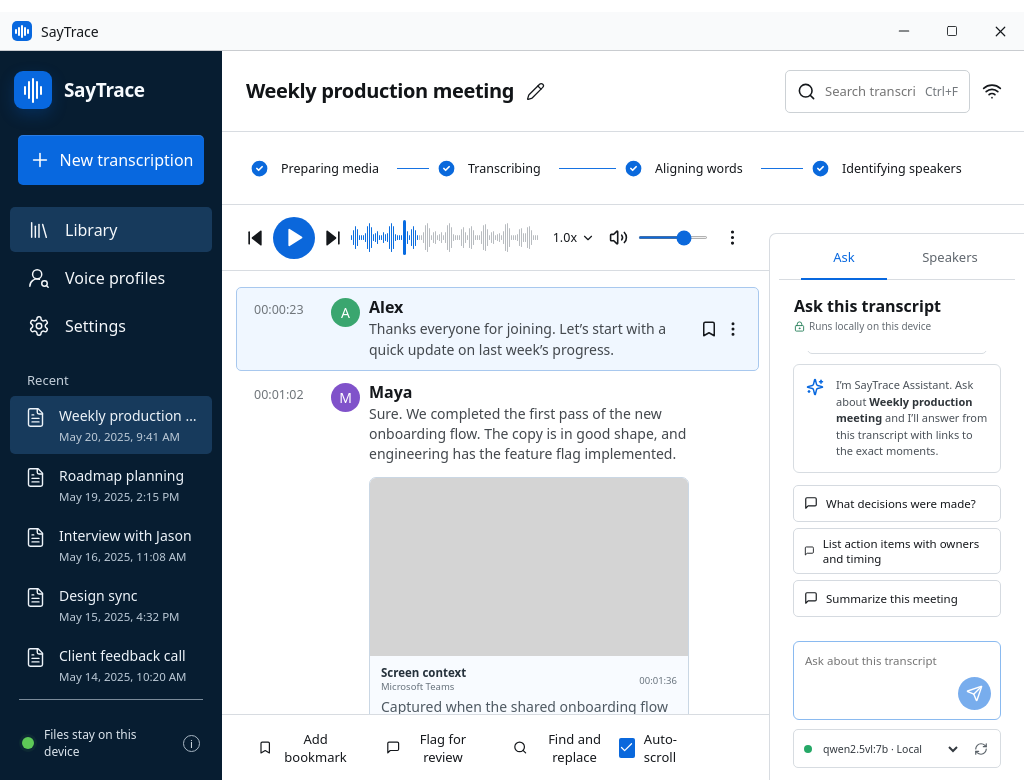
Scenario: SayTrace workspace › commits an inline speaker rename when focus leaves the field
The width and height of the screenshot is (1036, 780).
(page scrolled)
Click the tab "Speakers" at point(950, 256), box [897,234,1003,279]
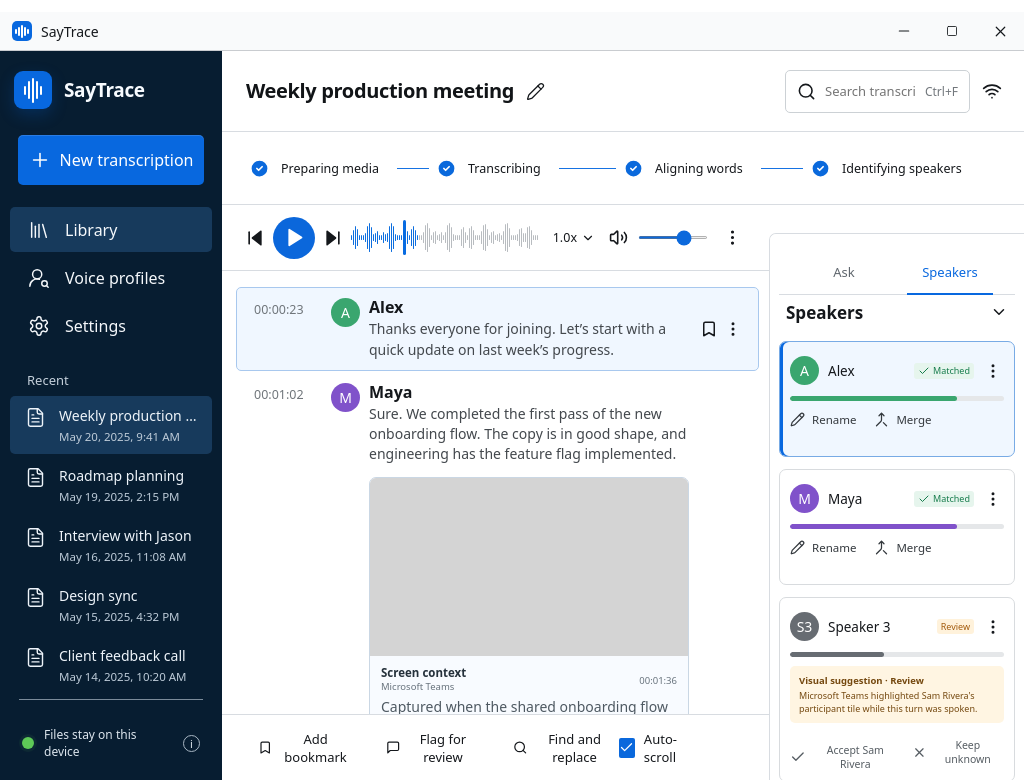
Click the 1st button "Rename" at point(823, 420), box [790,412,856,427]
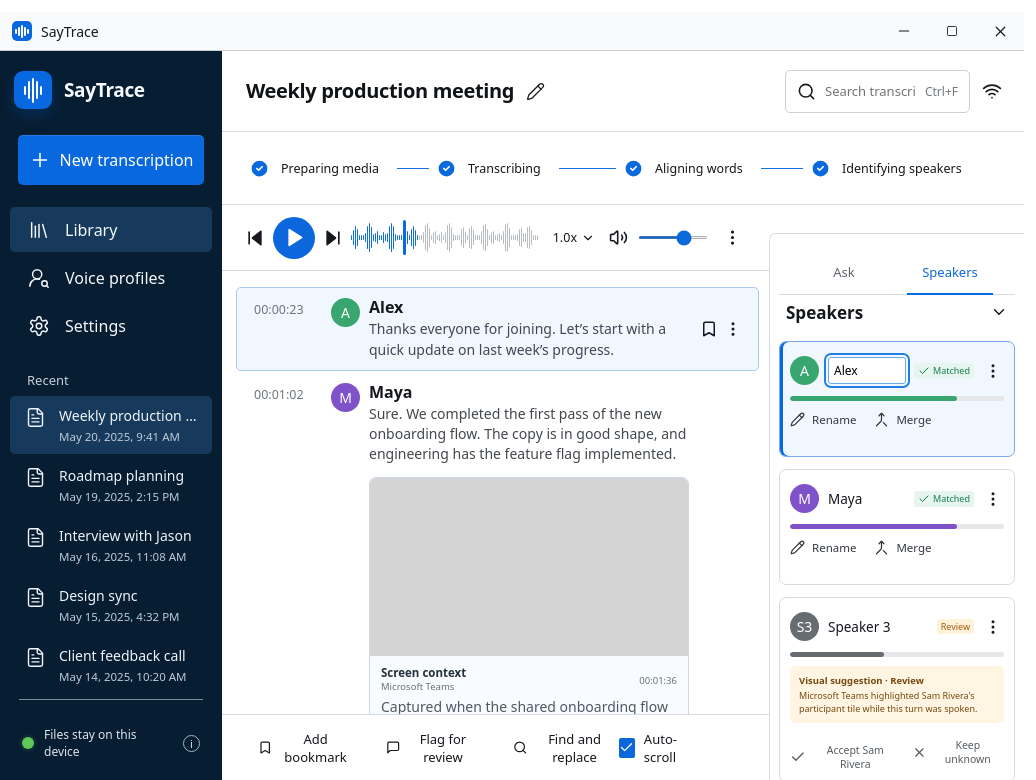
Replace the text in the field named "Speaker name" with "Alex Morgan" at point(867, 370), box [828,357,906,384]
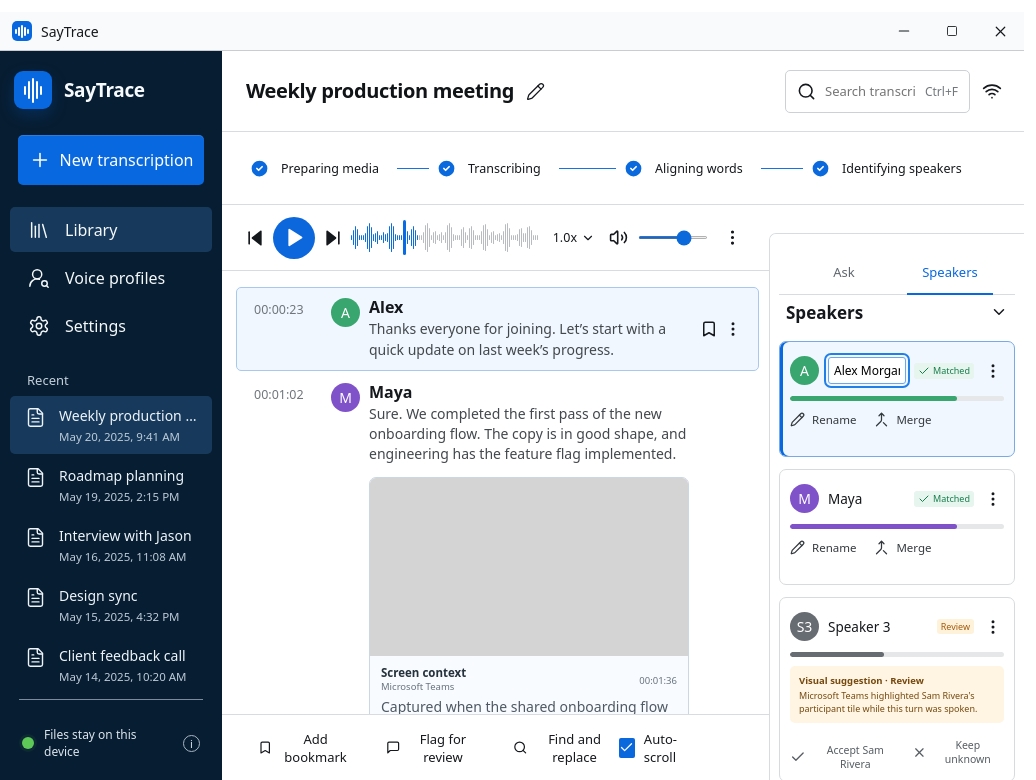
Press Tab
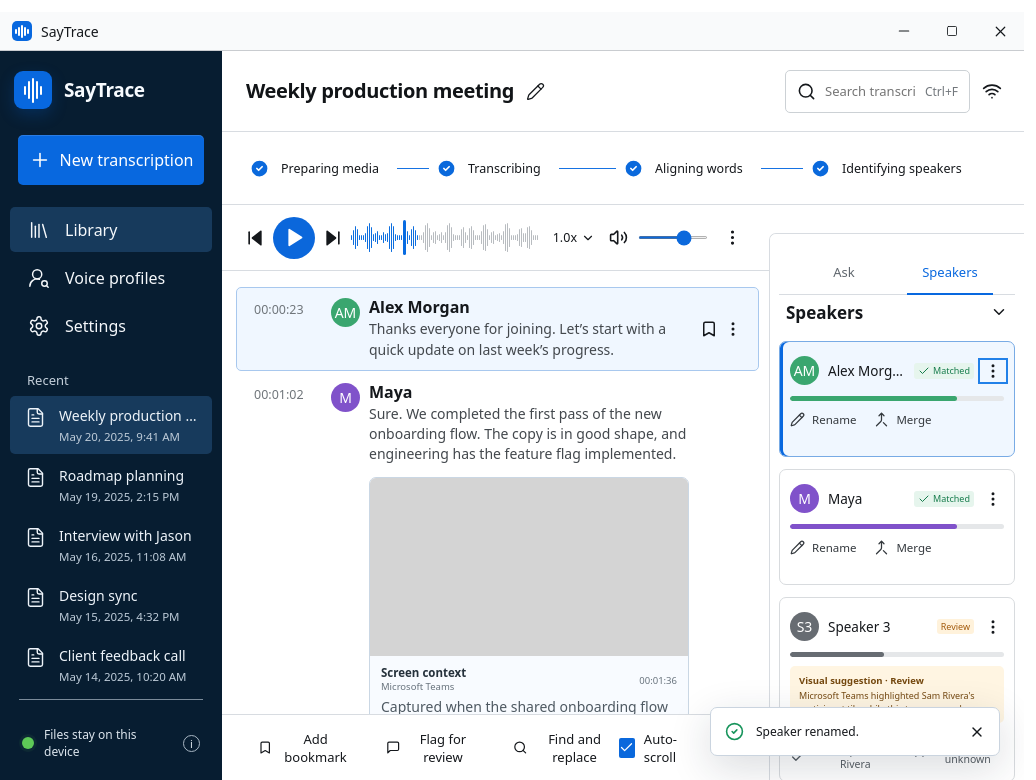
Now the button with aria-label "Show only Alex Morgan" is shown, box [828,362,906,380]
Now the text "Speaker renamed." is shown, box [756,723,859,740]
